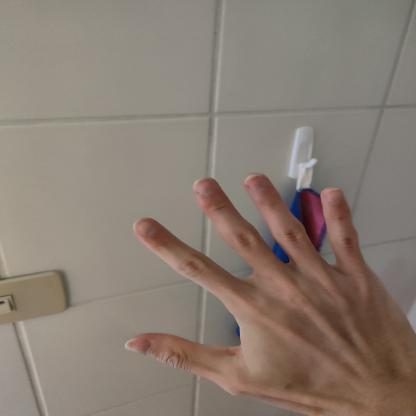bare_hand: (106, 157, 416, 416)
